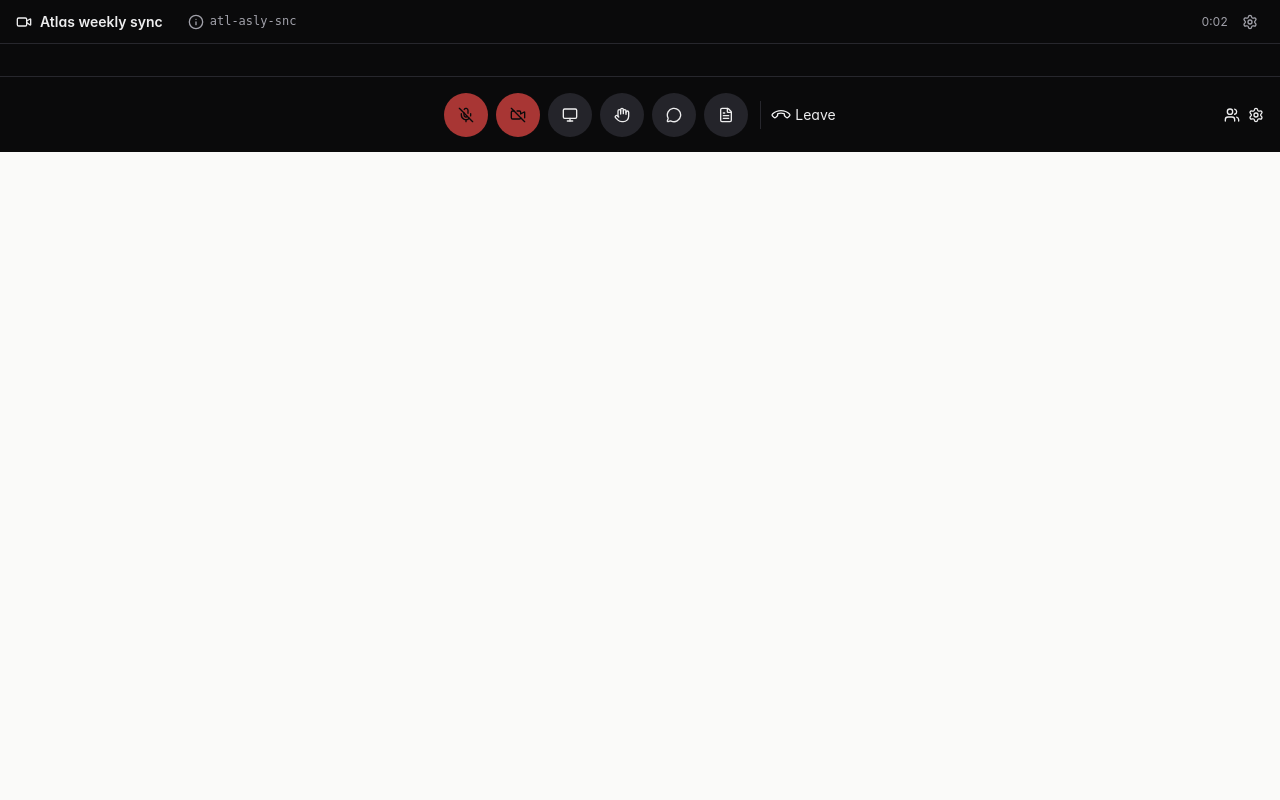
Test case: MeetCall transcription › shows the server's reason when transcription can't start
Click the button named "Start transcription": click(726, 114) top-left (704, 92), bottom-right (748, 136)
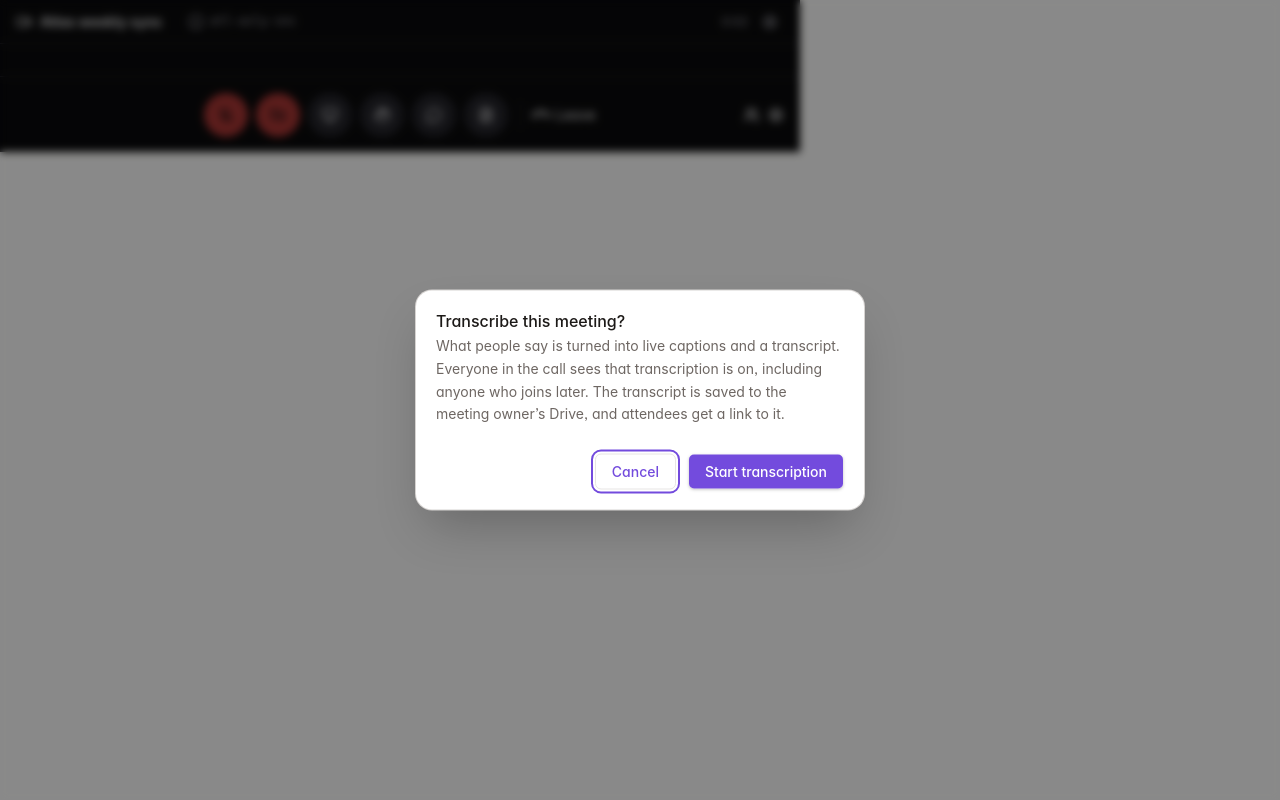
Click the button "Start transcription": click(766, 472) top-left (688, 454), bottom-right (844, 490)
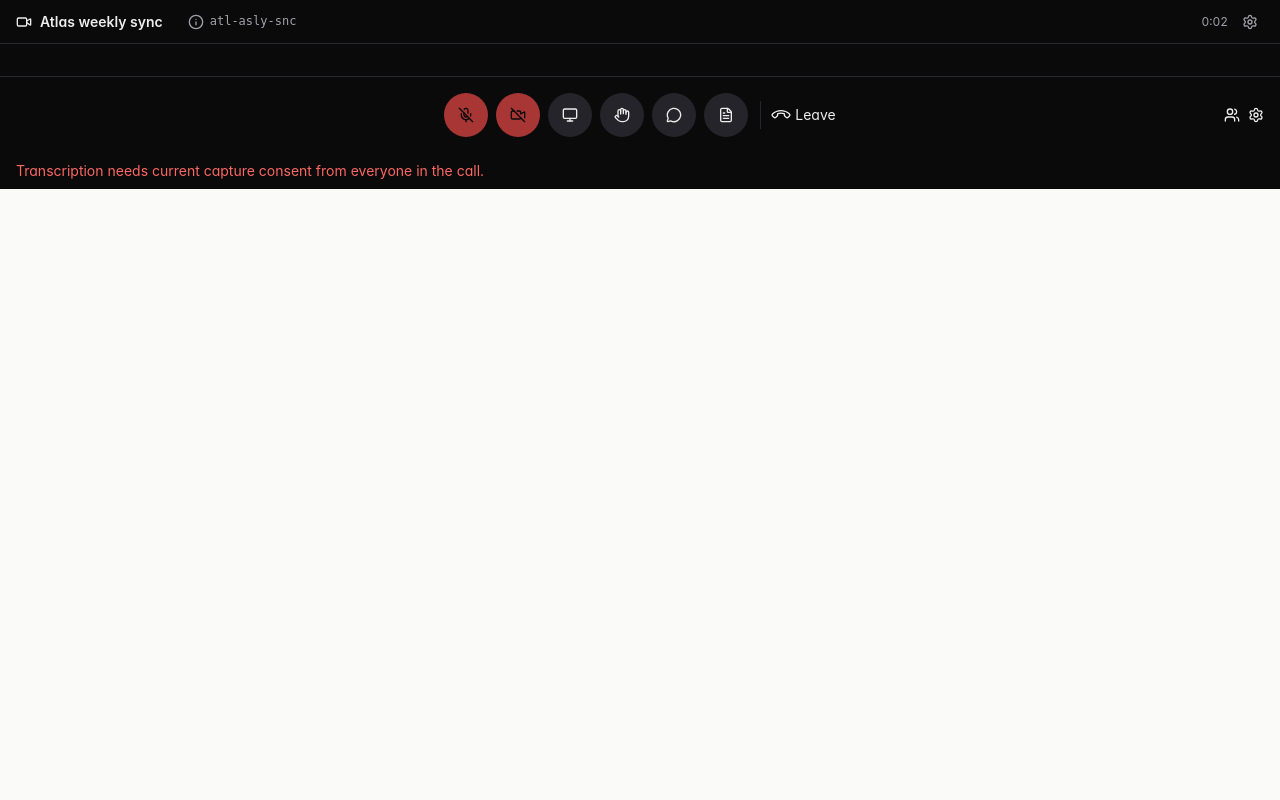
Expected: the message "Transcription needs current capture consent from everyone in the call." is shown, top-left (16, 162), bottom-right (484, 179)
